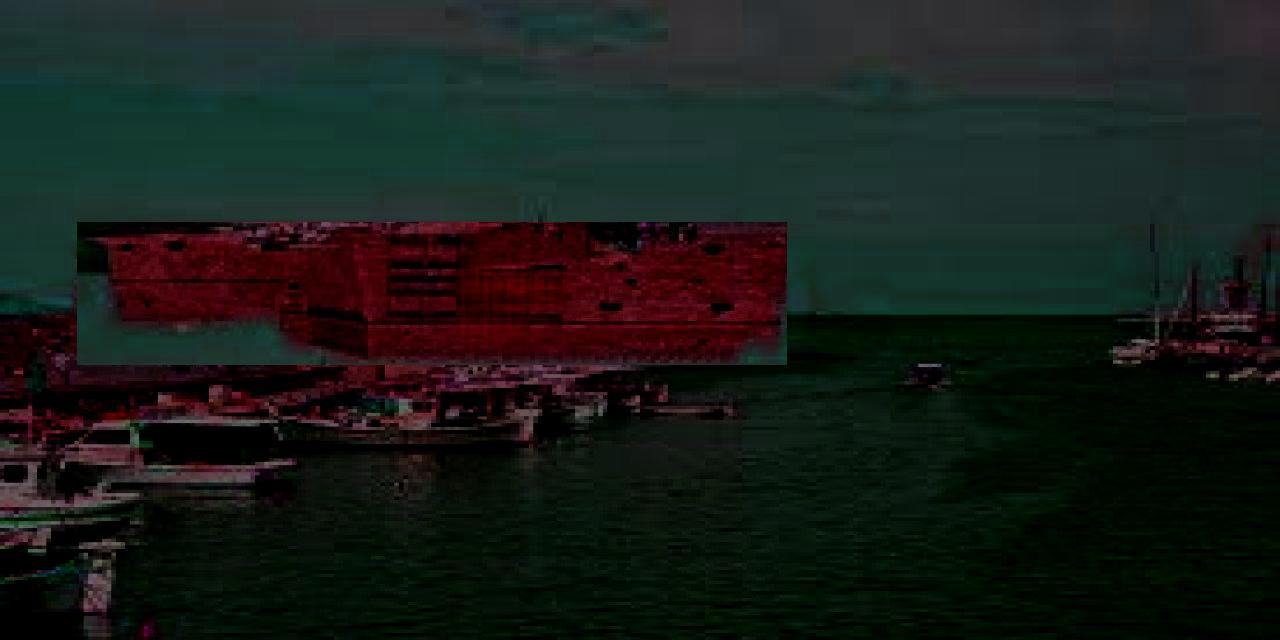Kules: (78, 223, 788, 366)
